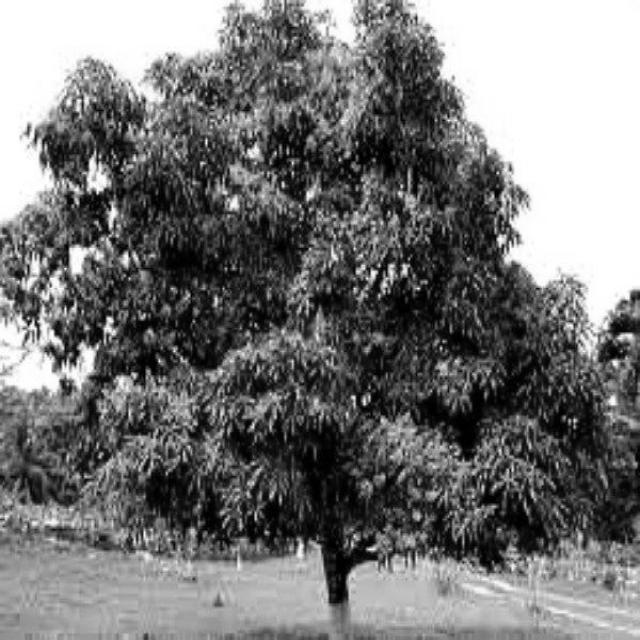Mango-Tree: (43, 81, 605, 597)
